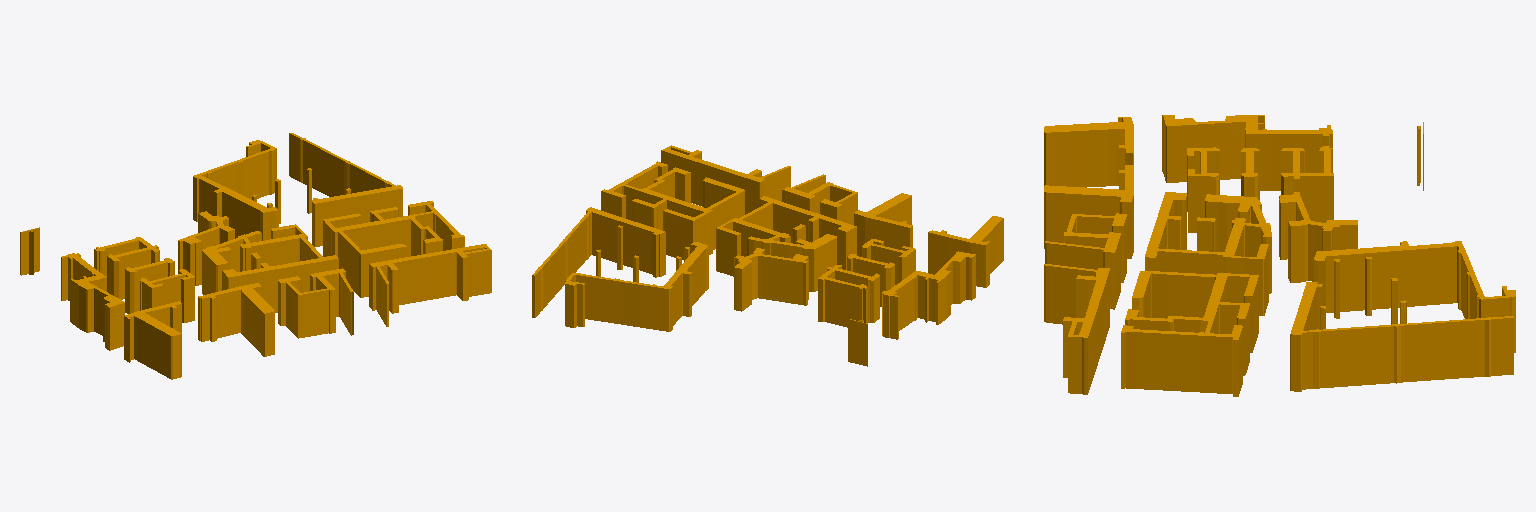
The robot description file, URDF, robot "Floorplan_demo_ROPOD":
<?xml version="1.0"?>
<robot name="Floorplan_demo_ROPOD">


<link name="map">
	<inertial>
		<mass value="500"/>
		<inertia
			ixx="1000.0" ixy="0.0" ixz="0.0"
			iyy="1000.0" iyz="0.0"
			izz="1000.0"/>
	</inertial>	  
	
	<visual name="map_visual">
		<origin rpy="0 0 0" xyz="0 0 0"/>
		<geometry>
			<mesh 
				filename="package://ropod_demo_dec_2017/config/shape/heightmap_sim.stl"
				scale="0.001 0.001 0.002"		
			/>
		</geometry>
	</visual>
	
	<collision name="map_collision">	
		<origin rpy="0 0 0" xyz="0 0 0"/>	
		<geometry>
			<mesh 
				filename="package://ropod_demo_dec_2017/config/shape/heightmap_sim.stl"
				scale="0.001 0.001 0.002"		
			/>
		</geometry>
	</collision>   

</link>  

<gazebo reference="map">
	<maxContacts>10</maxContacts>
	<laserRetro>0</laserRetro>
	<dampingFactor>0.01</dampingFactor>
	<selfCollide>false</selfCollide>
</gazebo>

</robot>

--- What the picture shows (computed from the rendered views, not written in the file) ---
The picture shows the robot from 3 angles, left to right: view 1: azimuth 30°, elevation 25°; view 2: azimuth 150°, elevation 25°; view 3: azimuth 270°, elevation 25°; orthographic projection.
Model Floorplan_demo_ROPOD with 1 links and 0 joints (none), rooted at map, posed every joint at zero.
Visible links, largest first — view 1: map; view 2: map; view 3: map.
Boxes of the visible links, x1,y1,x2,y2 form: map: (20, 133, 491, 379); map: (532, 145, 1003, 366); map: (1044, 115, 1515, 396).
Size in the robot's own frame: 16.95 by 15 by 2 metres.
Meshes: 1 distinct files referenced, 1 mesh visuals loaded (1 ASCII STL).